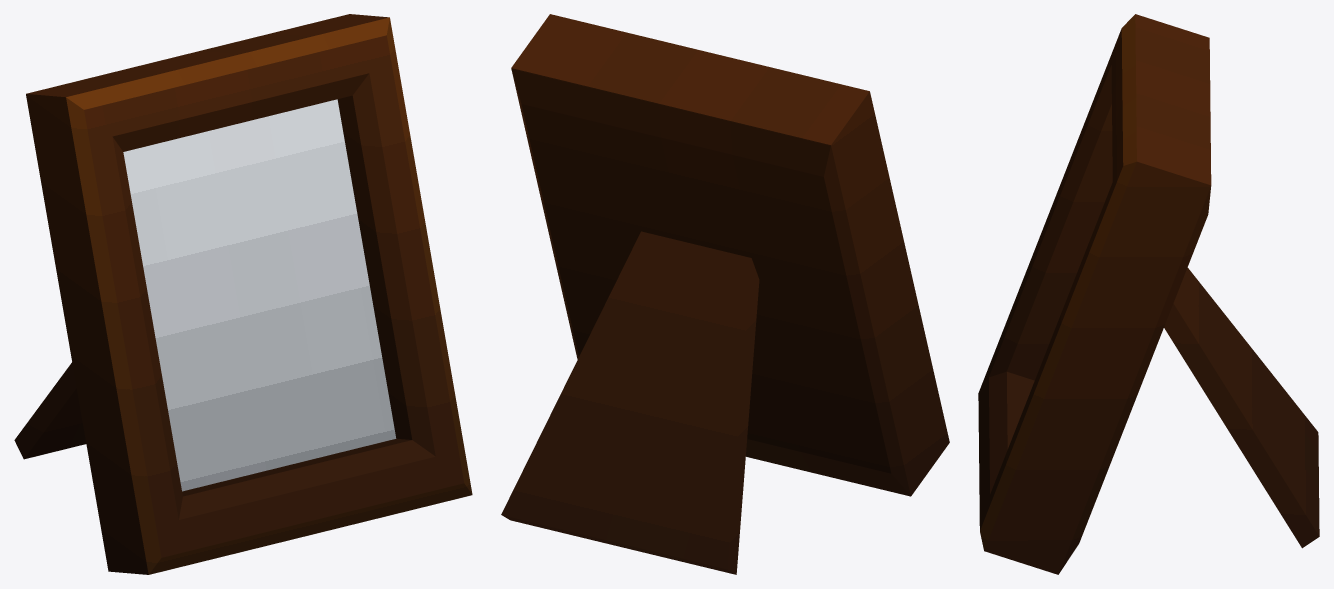
The model's file is Portrait.fbx.
3 views of the same model, side by side, from view 1: azimuth 30°, elevation 25°; view 2: azimuth 150°, elevation 25°; view 3: azimuth 270°, elevation 25° (orthographic). The views are drawn at different scales.
Visible parts, largest first — view 1: Portrait_v1; view 2: Portrait_v1; view 3: Portrait_v1.
Part boxes in pixels (left/top/right/bottom): Portrait_v1: left=14, top=14, right=472, bottom=574; Portrait_v1: left=501, top=14, right=949, bottom=574; Portrait_v1: left=978, top=14, right=1319, bottom=574.
Size of the model in its own units: 29.11 by 37.88 by 28.35.
